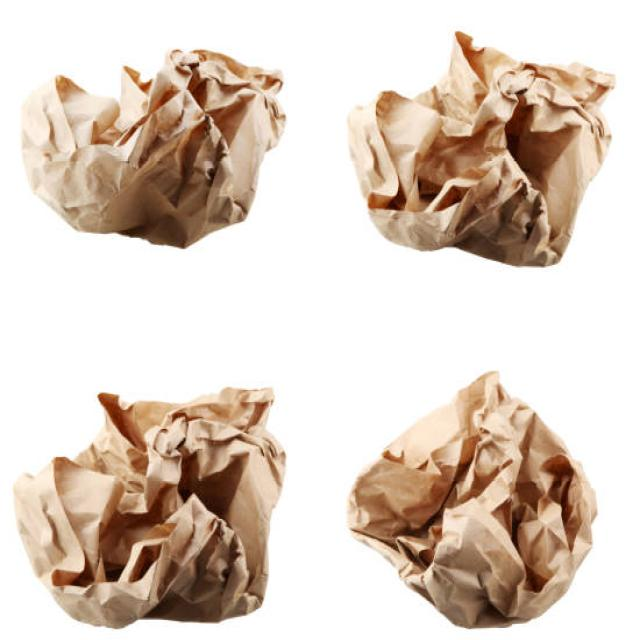electronic: (12, 384, 286, 628), (346, 368, 598, 630), (346, 28, 616, 268), (18, 45, 286, 248)
